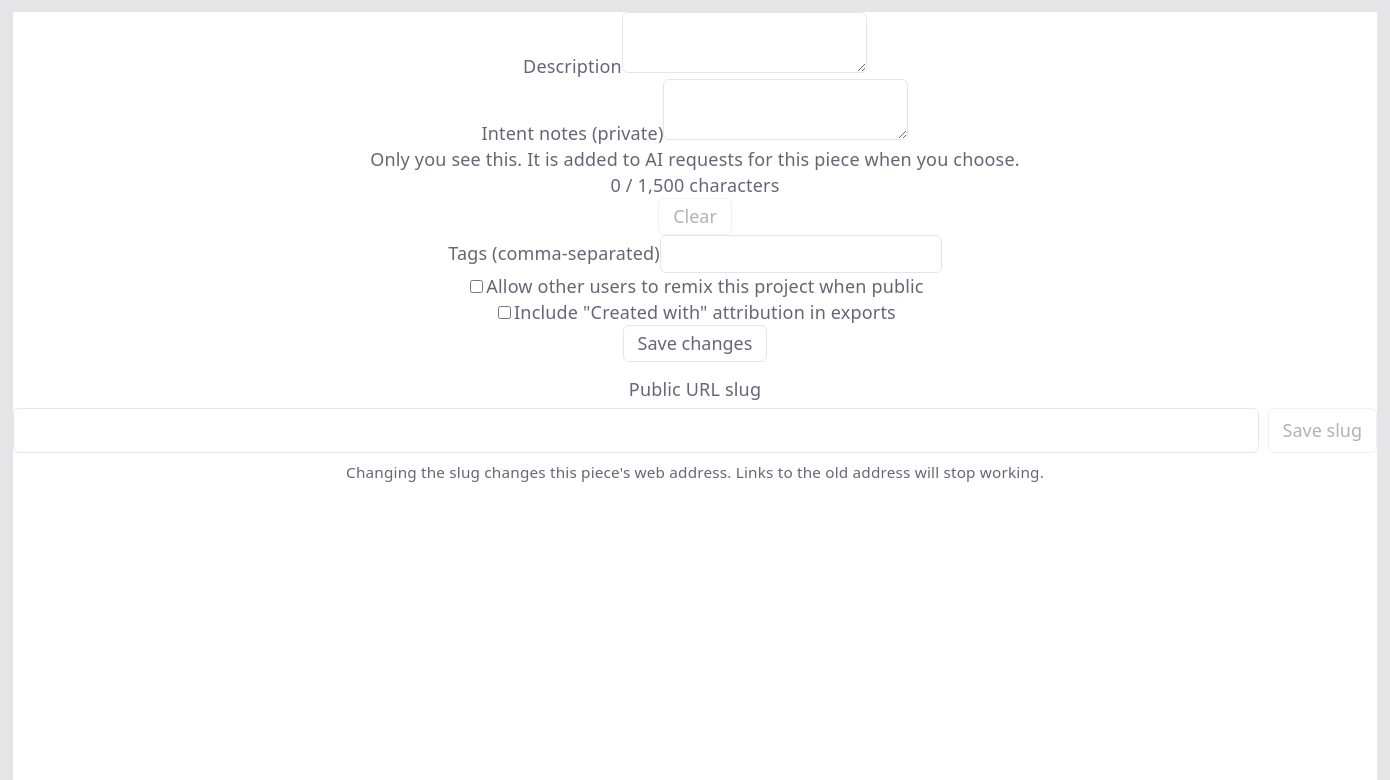
EditorDetailsPanel › saves valid changes without touching scene versions or title
The image size is (1390, 780).
Step 1. Type "Updated" into the text box labelled "Description" → (744, 42), box x1=622 y1=12 x2=867 y2=73
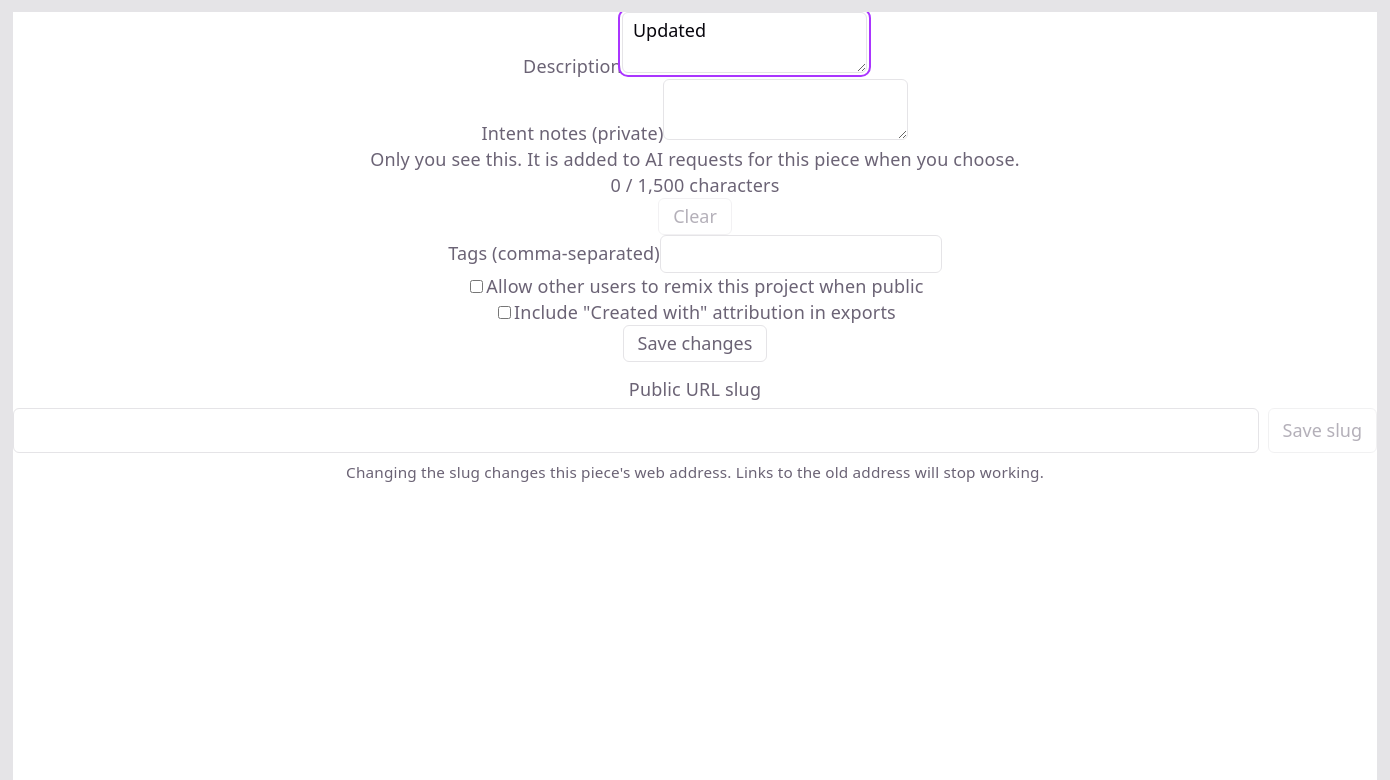
Step 2. Click the button "Save changes" → (695, 344), box x1=623 y1=325 x2=767 y2=362
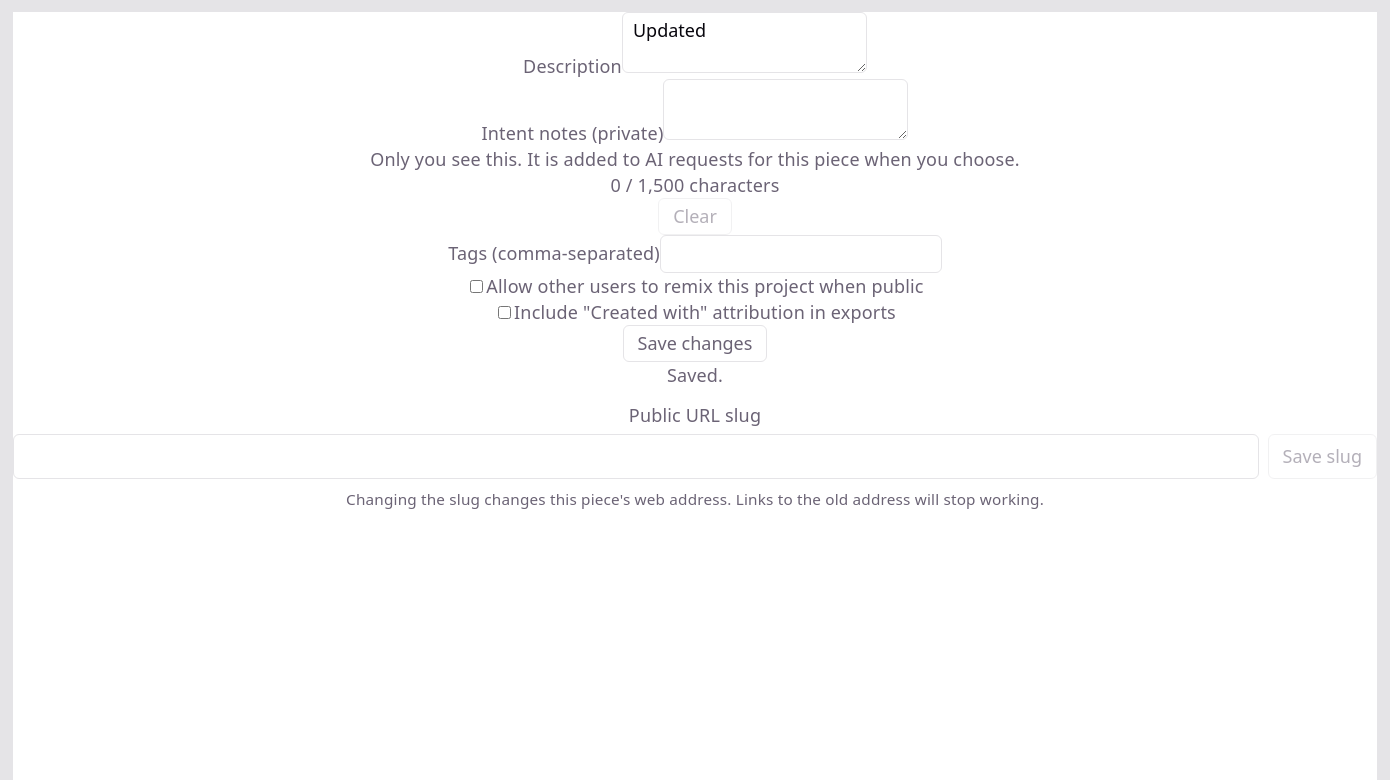
Now the message shows "Saved", box x1=667 y1=363 x2=723 y2=387
